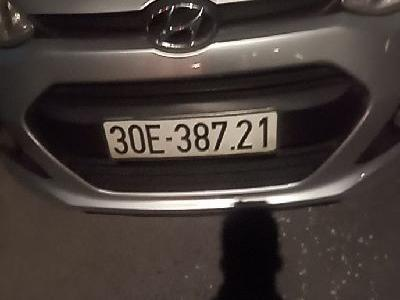car: (101, 107, 280, 165)
